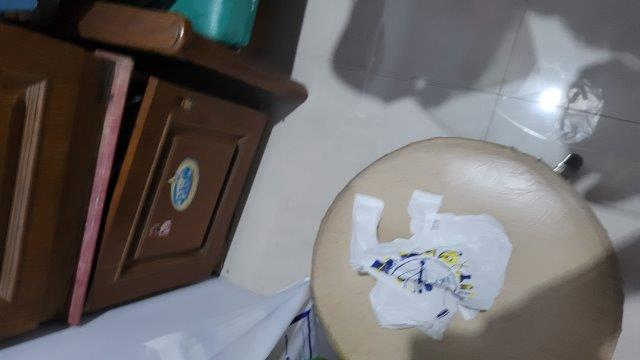plastik: (350, 189, 513, 341)
